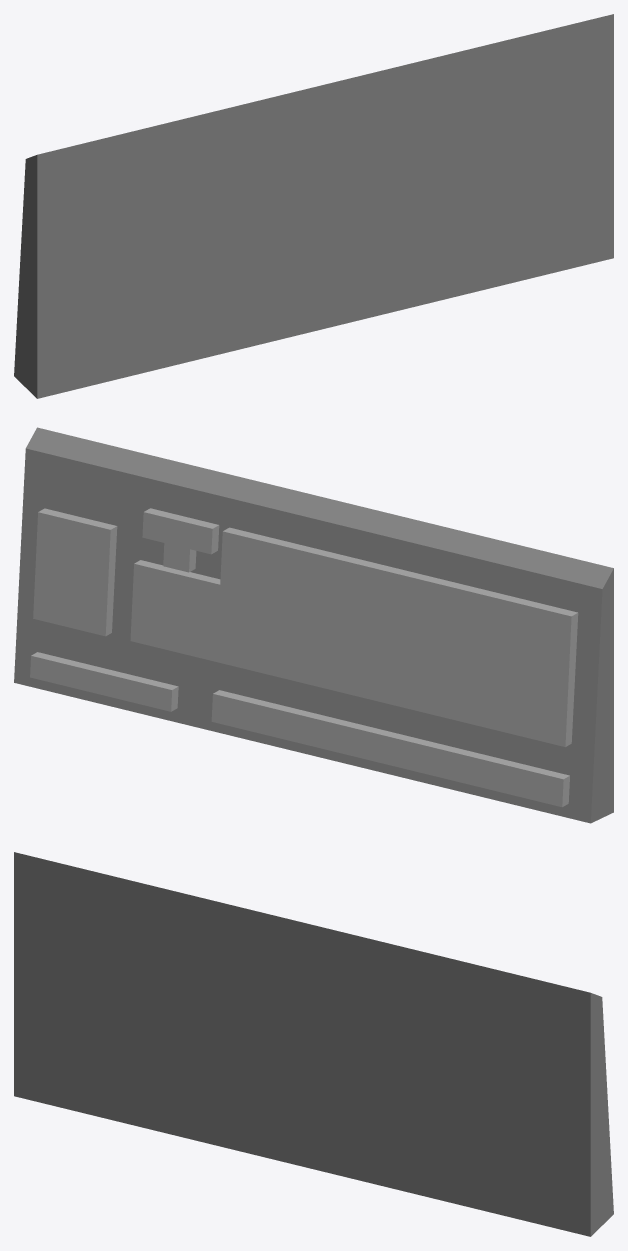
File: PC_Keyboard.glb
The picture shows the model from 3 angles, top to bottom: view 1: azimuth 30°, elevation 25°; view 2: azimuth 150°, elevation 25°; view 3: azimuth 330°, elevation 25°; orthographic projection.
Parts seen in each view (by area): view 1: PC Keyboard; view 2: PC Keyboard; view 3: PC Keyboard.
Boxes of the visible parts, left/top/right/bottom form: PC Keyboard: left=14, top=14, right=613, bottom=398; PC Keyboard: left=14, top=427, right=613, bottom=823; PC Keyboard: left=14, top=852, right=613, bottom=1236.
Bounding box in the file's own units: 0.4202 × 0.17 × 0.0364.
Materials: 1 (1 with a texture image).
